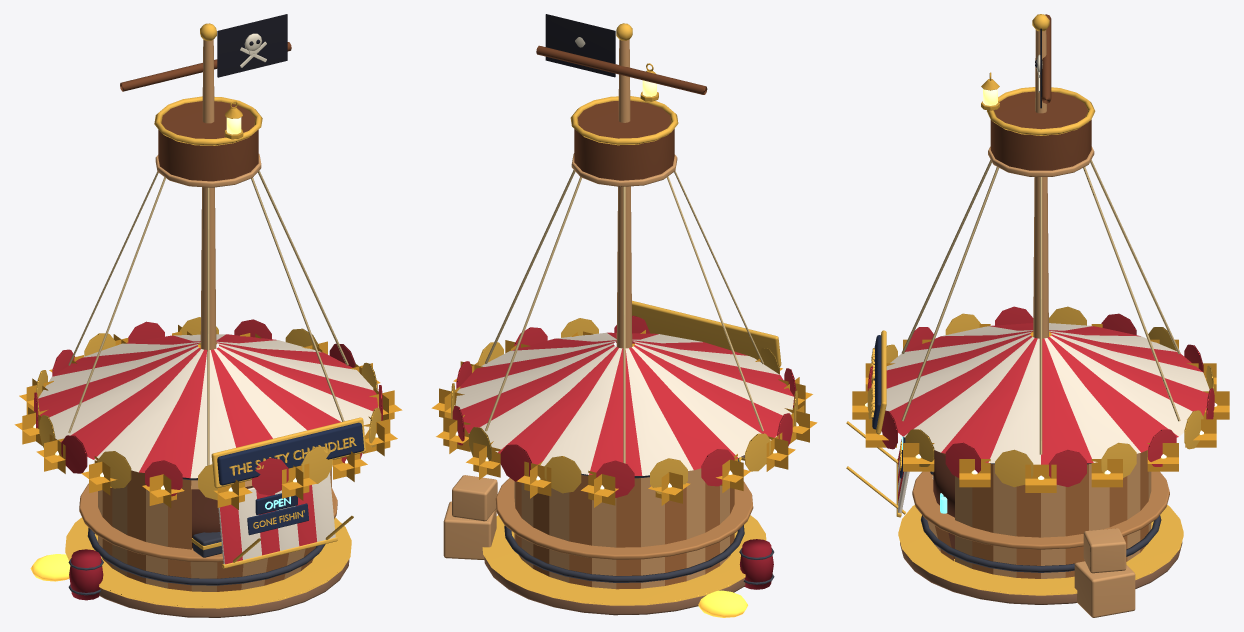
The model's file is cove_station.glb.
3 renders of one model, left to right at view 1: azimuth 30°, elevation 25°; view 2: azimuth 150°, elevation 25°; view 3: azimuth 270°, elevation 25°, orthographic.
Parts seen in each view (by area): view 1: Station, Shutter, ClosedSign, OpenDressing; view 2: Station; view 3: Station.
Boxes of the visible parts, box(x1,y1,x2,y2) form: Station: box(14, 14, 402, 617); Shutter: box(218, 472, 337, 568); ClosedSign: box(247, 503, 308, 535); OpenDressing: box(233, 493, 353, 562); Station: box(431, 14, 817, 617); Station: box(852, 14, 1229, 617).
Size of the model in its own units: 7.09 by 11.18 by 7.2.
